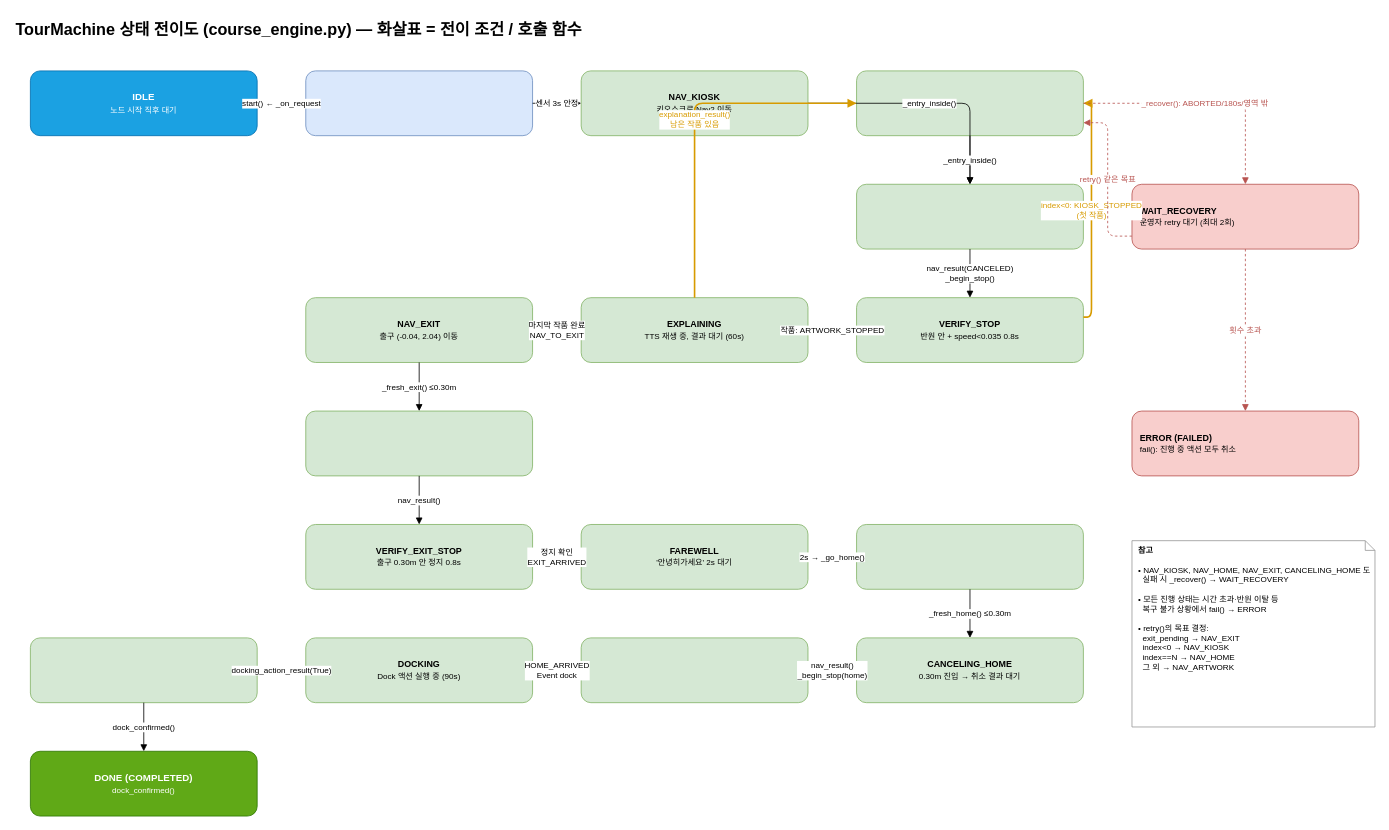
The diagram is 1389 pixels wide and 830 high, and some of its shapes have lost their labels. The centre of each missing label's shape, as x and y in pixels:
"(노드) UNDOCK + 센서 대기 _undock_finished → _tick(3) → _finish_post_undock" goes at point (419, 103).
"CANCELING 반원 진입 → Nav2 취소 결과 대기 (12s)" goes at point (969, 216).
"CANCELING_EXIT 0.30m 진입 → 취소 결과 대기" goes at point (419, 443).
"NAV_ARTWORK 작품 index로 Nav2 이동" goes at point (969, 103).
"NAV_HOME 접근점 (-0.35, -0.0957) 이동" goes at point (969, 556).
"VERIFY_HOME_STOP 접근점 0.30m 안 정지 0.8s" goes at point (694, 670).
"WAIT_DOCK_CONFIRM is_docked 토픽 확인 (12s)" goes at point (143, 670).
